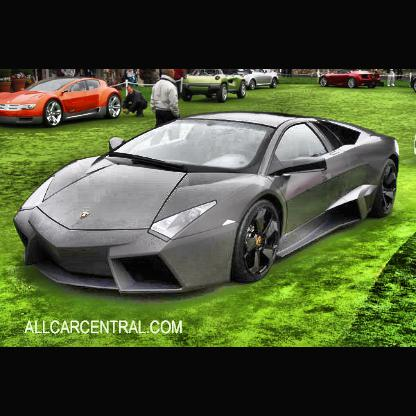Lamborghini Reventon Coupe 2008: (16, 113, 401, 293)
